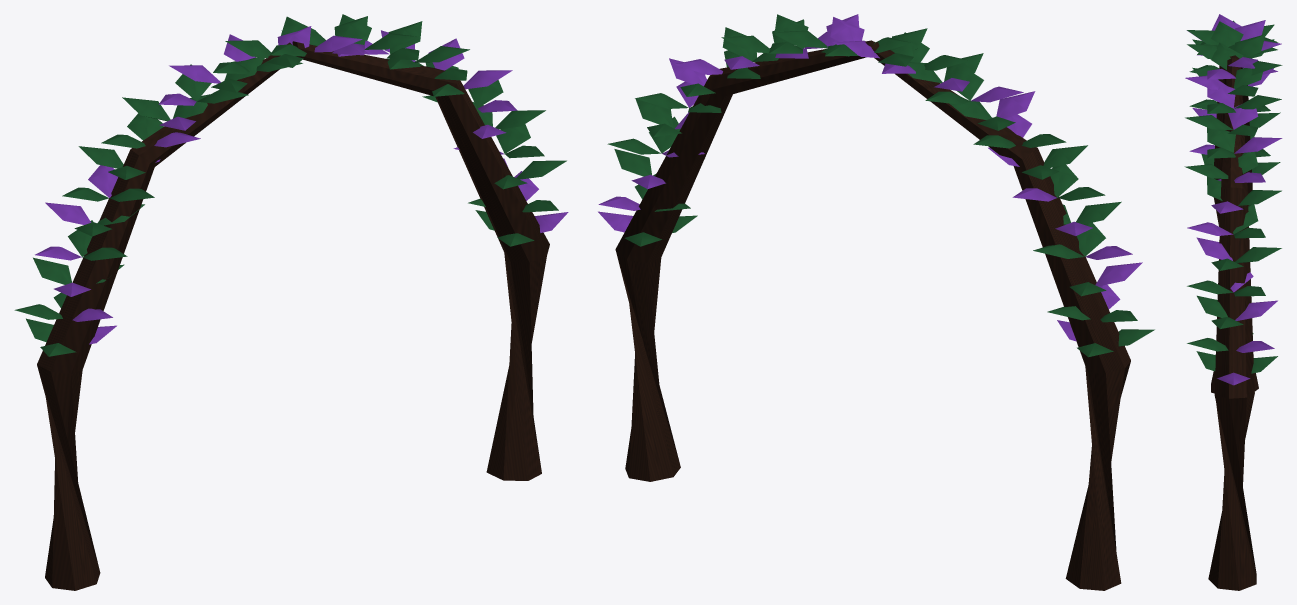
File: Arco_do_jardim_LOD1.fbx
The picture shows the model from 3 angles, left to right: view 1: azimuth 30°, elevation 25°; view 2: azimuth 150°, elevation 25°; view 3: azimuth 270°, elevation 25°; orthographic projection. The views are drawn at different scales.
Visible parts, largest first — view 1: Arco_do_jardim_LOD1; view 2: Arco_do_jardim_LOD1; view 3: Arco_do_jardim_LOD1.
Boxes of the visible parts, x1,y1,x2,y2 form: Arco_do_jardim_LOD1: (14,14,568,590); Arco_do_jardim_LOD1: (598,14,1154,590); Arco_do_jardim_LOD1: (1184,14,1282,590).
Size of the model in its own units: 397 by 337 by 69.66.
Materials: 1 (1 with a texture image).
